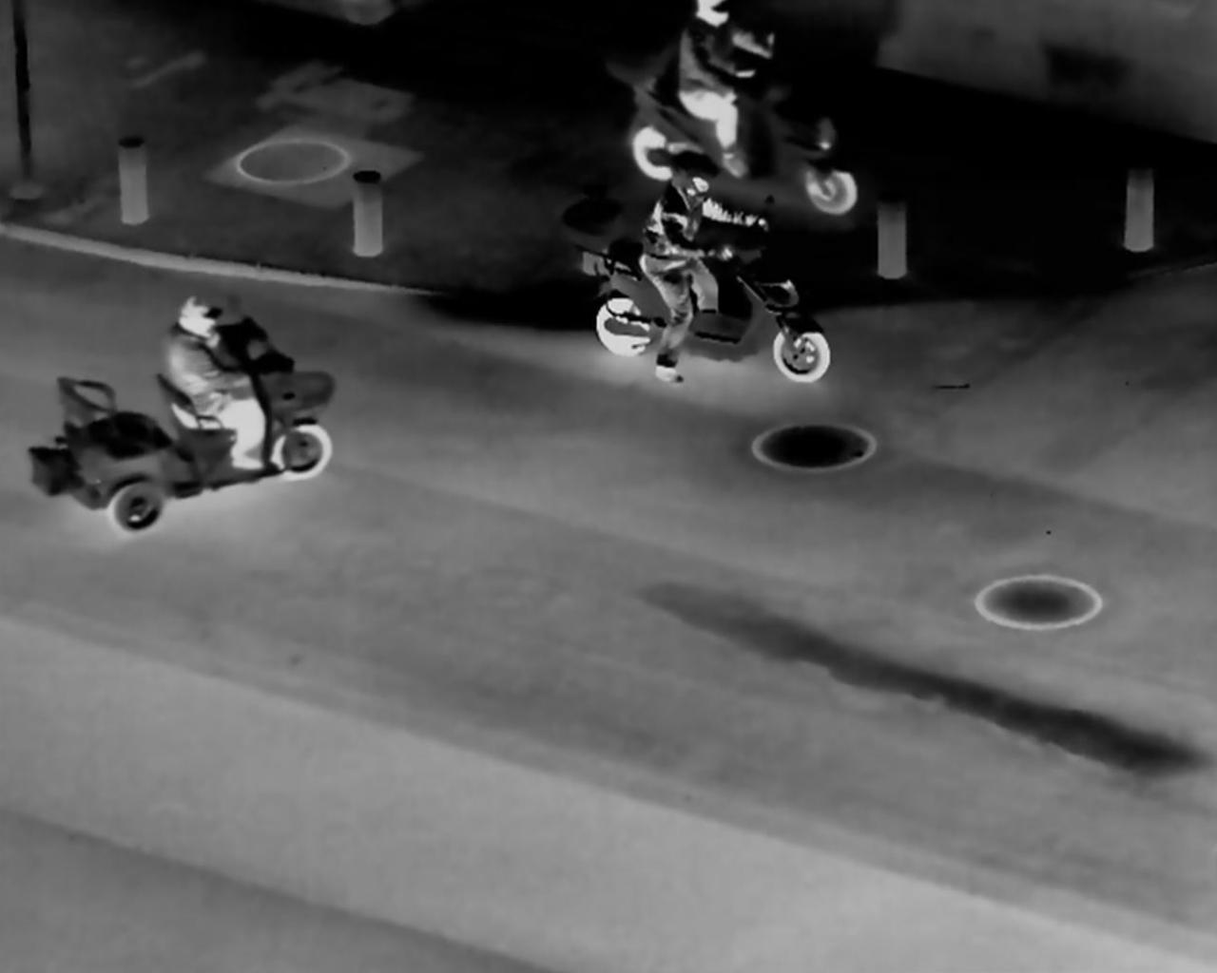person: (640, 161, 754, 386), (152, 293, 272, 483)
